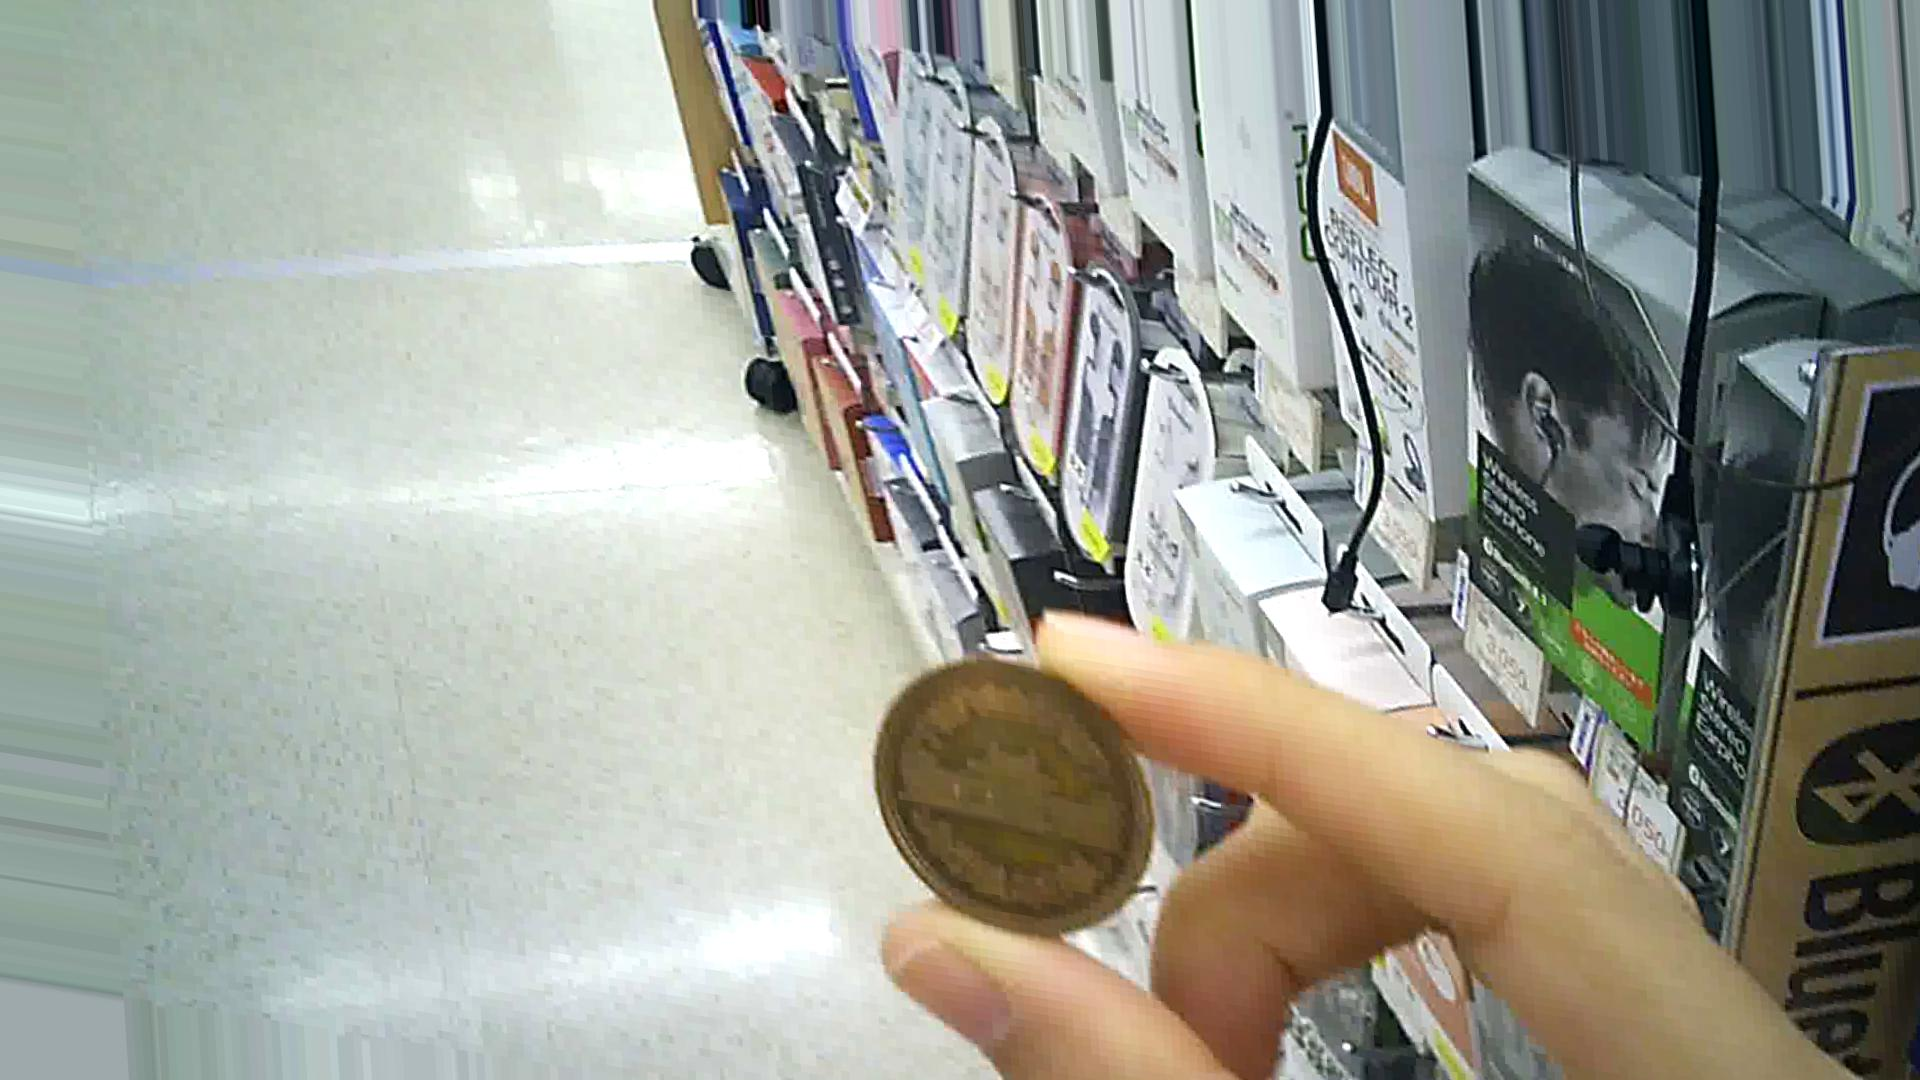10 Yen: (864, 644, 1158, 949)
